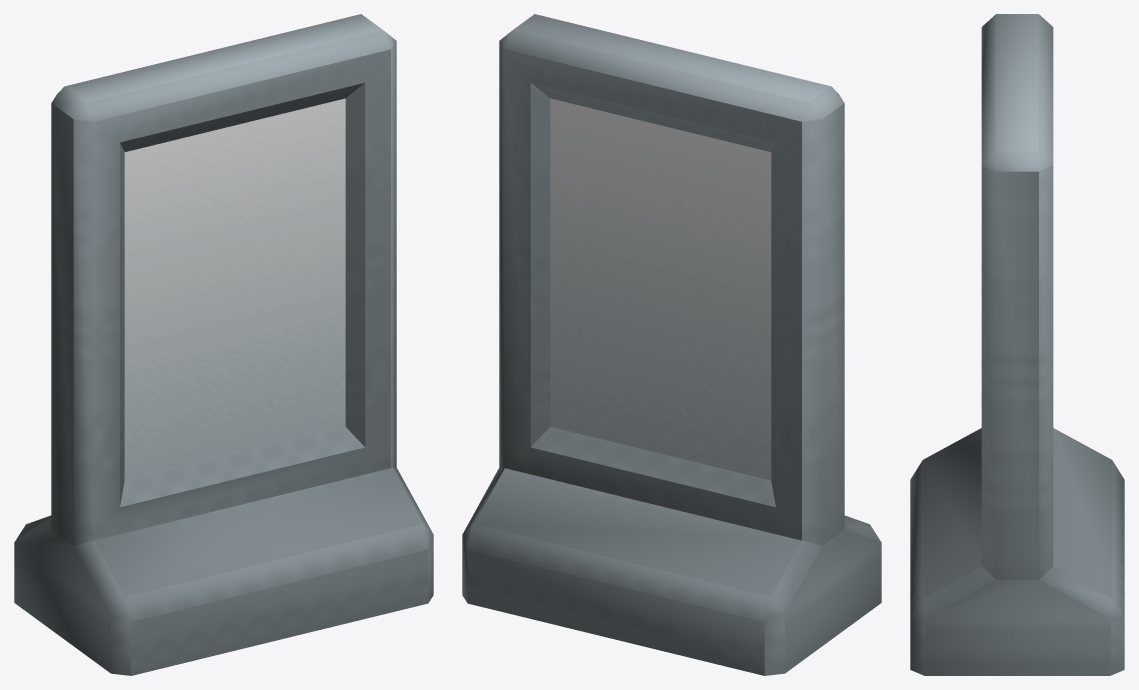
The model's file is menu.gltf.
The picture shows the model from 3 angles, left to right: view 1: azimuth 30°, elevation 25°; view 2: azimuth 150°, elevation 25°; view 3: azimuth 270°, elevation 25°; orthographic projection. The views are drawn at different scales.
Parts seen in each view (by area): view 1: menu; view 2: menu; view 3: menu.
Part boxes in pixels (x1,y1,x2,y2): menu: (14, 14, 433, 675); menu: (462, 14, 881, 675); menu: (910, 14, 1124, 675).
Bounding box in the file's own units: 0.5 × 0.8 × 0.3.
1 material, 1 textured.
